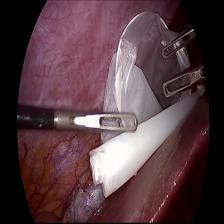Grasper: (66, 111, 138, 135), (162, 67, 205, 101), (161, 26, 197, 61)
Specimen Bag: (89, 9, 206, 206)
